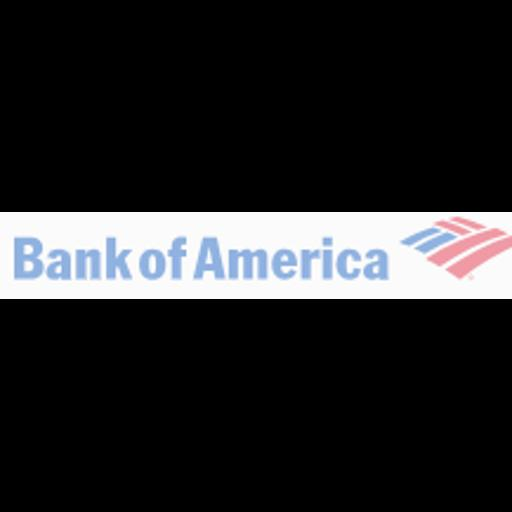Bank of America: (0, 212, 512, 299)
